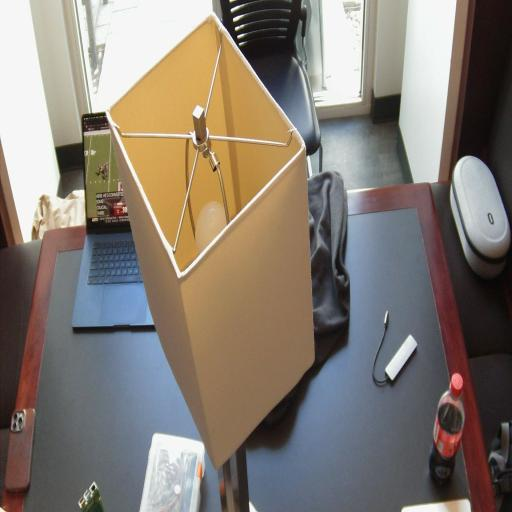lamp: (106, 12, 316, 512)
